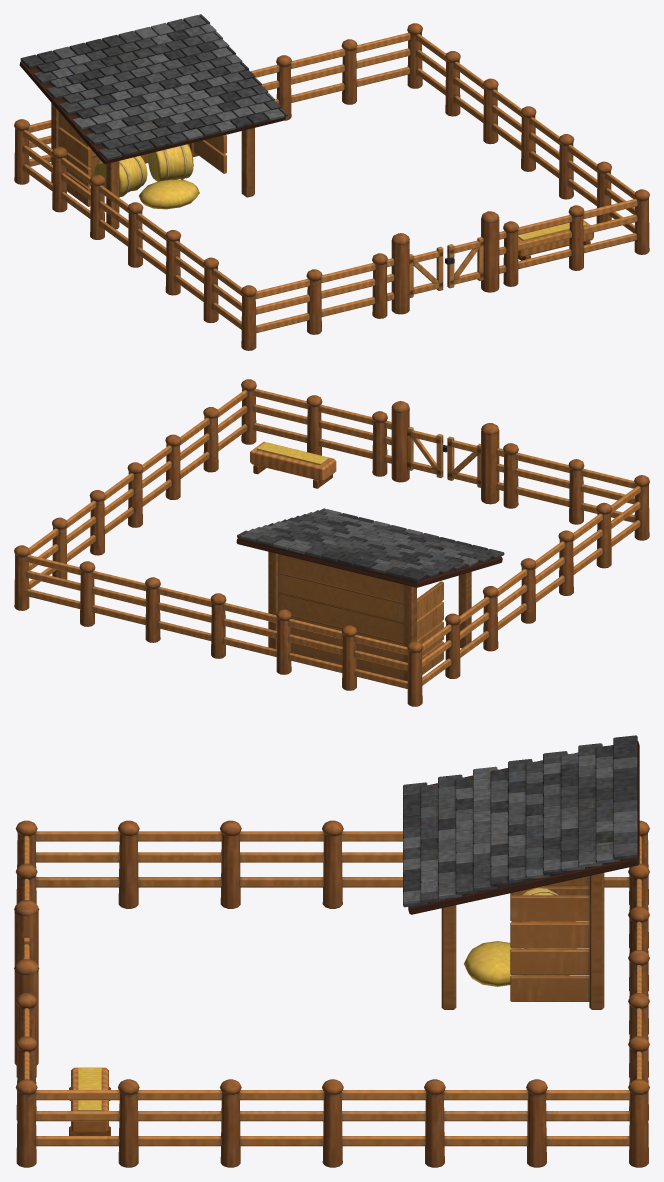
Rendered from dorper_fold.glb.
3 renders of one model, top to bottom at view 1: azimuth 30°, elevation 25°; view 2: azimuth 150°, elevation 25°; view 3: azimuth 270°, elevation 25°, orthographic. The views are drawn at different scales.
Parts seen in each view (by area): view 1: dorper_fold, gate1, gate0; view 2: dorper_fold, gate1, gate0; view 3: dorper_fold.
Boxes of the visible parts, x1,y1,x2,y2 form: dorper_fold: [14, 14, 649, 350]; gate1: [445, 236, 483, 288]; gate0: [409, 246, 443, 297]; dorper_fold: [14, 379, 649, 706]; gate1: [407, 426, 447, 477]; gate0: [447, 436, 480, 487]; dorper_fold: [14, 735, 649, 1167].
Size of the model in its own units: 3 by 0.9345 by 3.01.
1 material, 1 textured.
